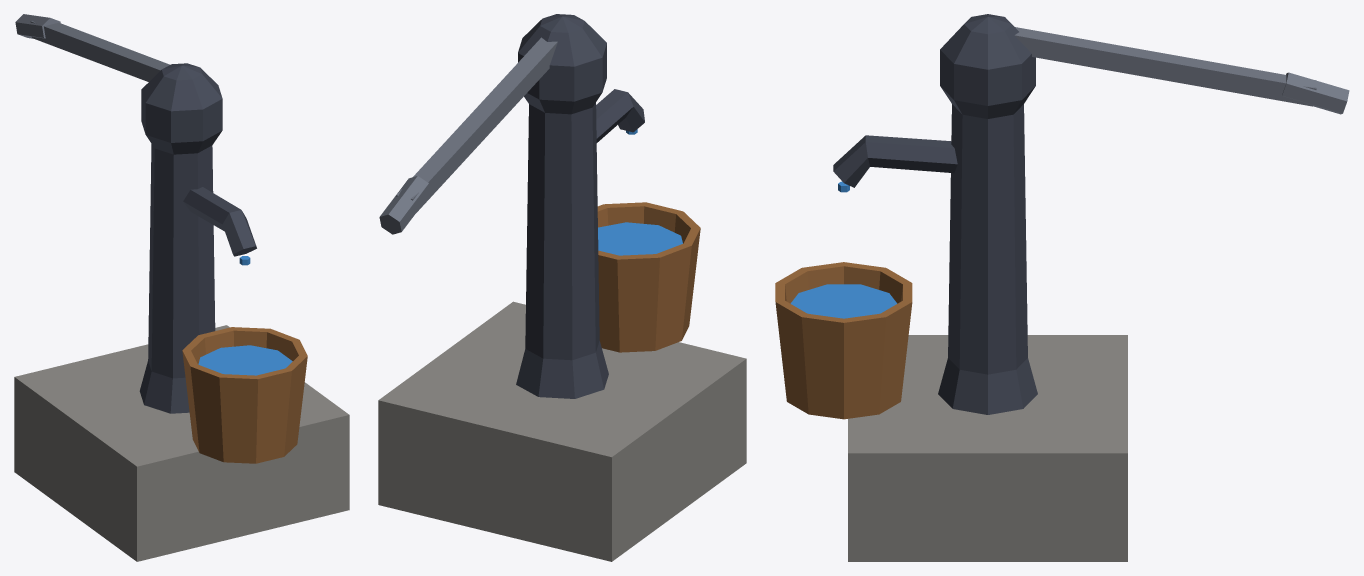
The model's file is water-pump-pixor.glb.
The picture shows the model from 3 angles, left to right: view 1: azimuth 30°, elevation 25°; view 2: azimuth 150°, elevation 25°; view 3: azimuth 270°, elevation 25°; orthographic projection. The views are drawn at different scales.
Parts seen in each view (by area): view 1: Pump base, Pump body, Pump bucket, Pump handle, Pump bucket water; view 2: Pump base, Pump body, Pump bucket, Pump handle, Pump bucket water; view 3: Pump base, Pump body, Pump bucket, Pump handle, Pump bucket water.
Part boxes in pixels (left/top/right/bottom): Pump base: left=14, top=325, right=349, bottom=561; Pump body: left=139, top=63, right=256, bottom=413; Pump bucket: left=182, top=327, right=307, bottom=463; Pump handle: left=15, top=14, right=169, bottom=81; Pump bucket water: left=198, top=345, right=292, bottom=375; Pump base: left=378, top=301, right=746, bottom=561; Pump body: left=516, top=14, right=644, bottom=398; Pump bucket: left=597, top=202, right=700, bottom=352; Pump handle: left=379, top=37, right=557, bottom=234; Pump bucket water: left=598, top=222, right=682, bottom=255; Pump base: left=848, top=335, right=1127, bottom=561; Pump body: left=833, top=14, right=1037, bottom=414; Pump bucket: left=775, top=262, right=912, bottom=419; Pump handle: left=1014, top=27, right=1349, bottom=114; Pump bucket water: left=790, top=284, right=897, bottom=318.
Bounding box in the file's own units: 0.7 × 1.34 × 1.43.
